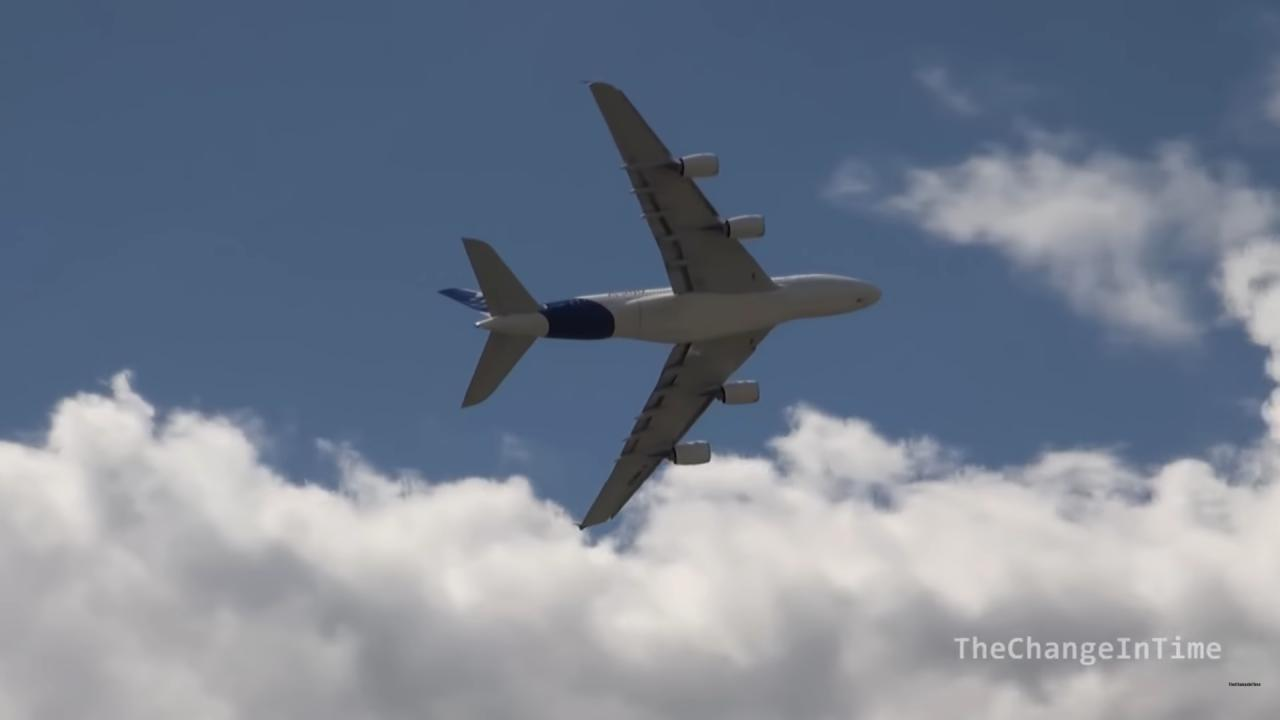Airplane: (432, 68, 895, 538)
